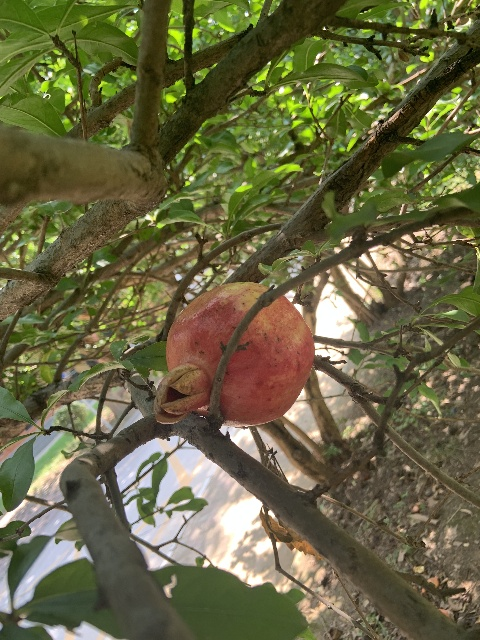ripe: (153, 282, 314, 426)
